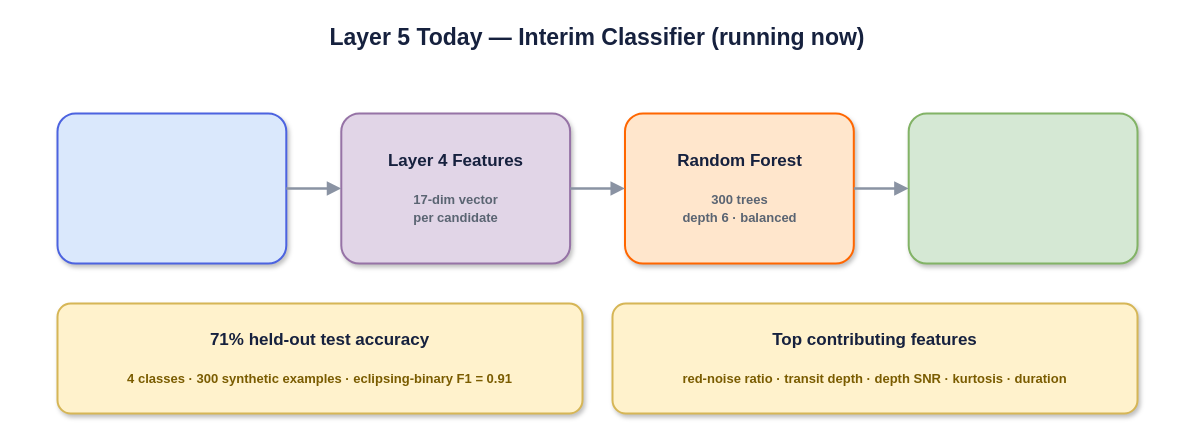
Some shapes in this 1194 by 438 pixel diagram are drawn without their labels. The shapes that lost their labels are listed below. From the top down, each one's centre as x and y in pixels, then its label:
At (172,189): "Synthetic Data 300 labelled examples · 4 classes".
At (1023,189): "Output Class probabilities + top features".
